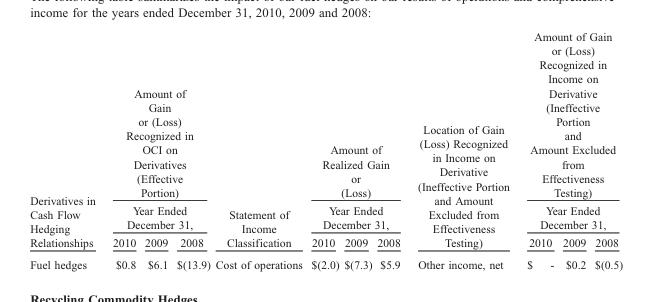table: (29, 29, 622, 270)
table column: (408, 29, 517, 270), (212, 29, 306, 270), (29, 29, 103, 270), (171, 29, 212, 270), (517, 29, 557, 270), (103, 29, 139, 270), (306, 29, 341, 270), (374, 29, 408, 270), (341, 29, 374, 270), (589, 29, 622, 270), (139, 29, 171, 270), (557, 29, 589, 270)
table column header: (29, 29, 622, 253)
table row: (29, 29, 622, 233), (29, 233, 622, 253), (29, 253, 622, 270)
table spanning cell: (408, 29, 517, 253), (103, 29, 212, 233), (517, 29, 622, 233), (212, 29, 306, 253), (306, 29, 408, 233), (29, 29, 103, 253)
